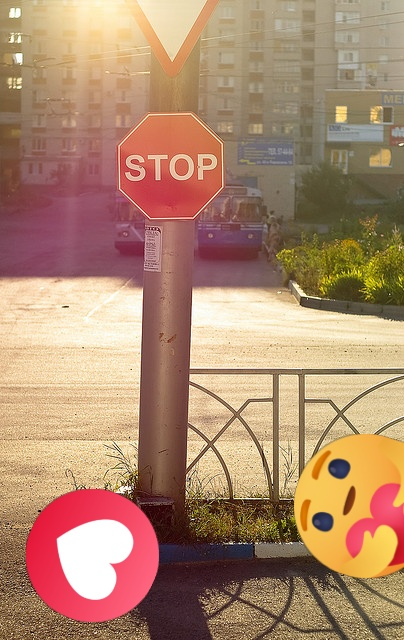care: (294, 434, 404, 578)
love: (26, 489, 159, 622)
